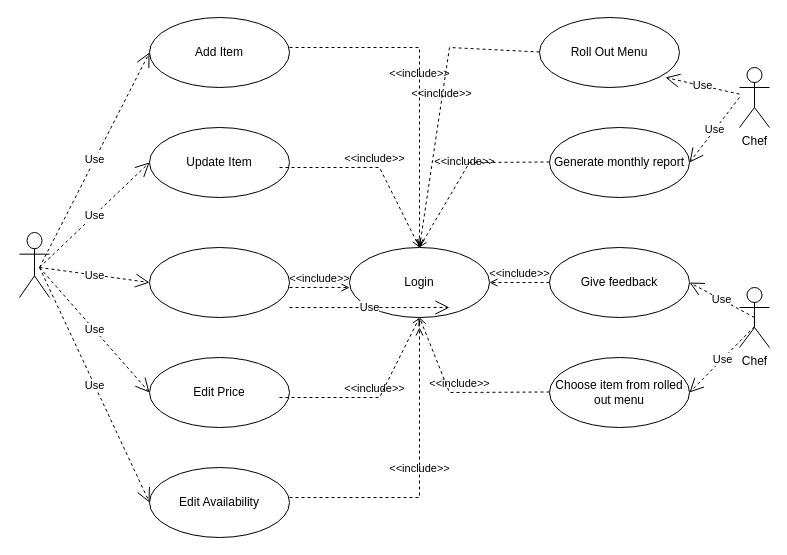
Image size: 787x555. Some labels were removed from this diagram. Each missing label, with the centre of its shape:
Admin: point 34,265
Delete Item: point 219,282
